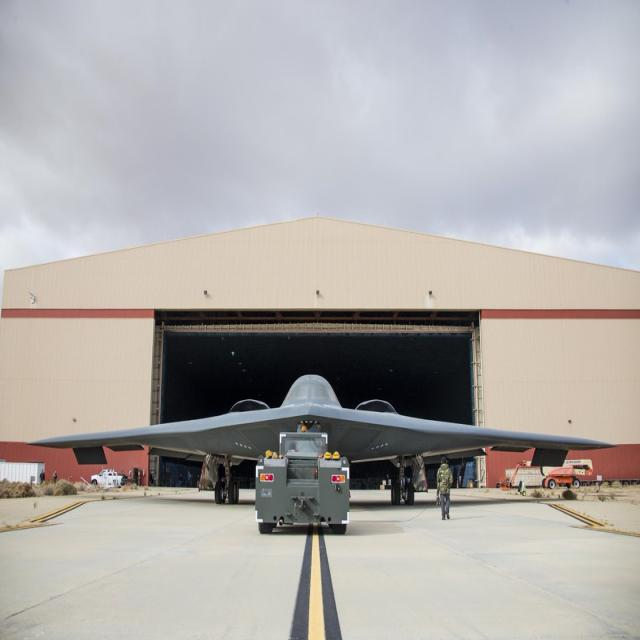MIL_Plane: (24, 374, 619, 506)
